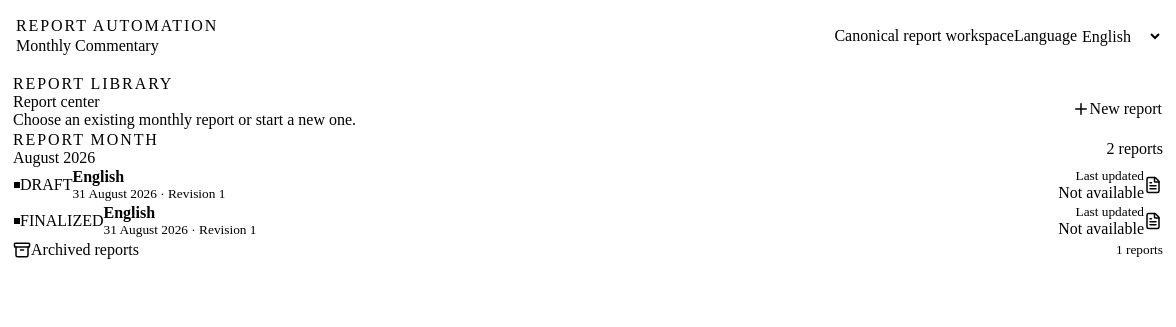
Test: report center navigation › opens the report center without loading or refreshing an individual report
Expected: the heading "Report center" is shown, [13,93,100,110]
Expected: the heading "August 2026" is shown, [13,149,95,166]
Select "简体中文" in the dropdown labelled "Language" at (1120,36), box [1077,16,1164,56]
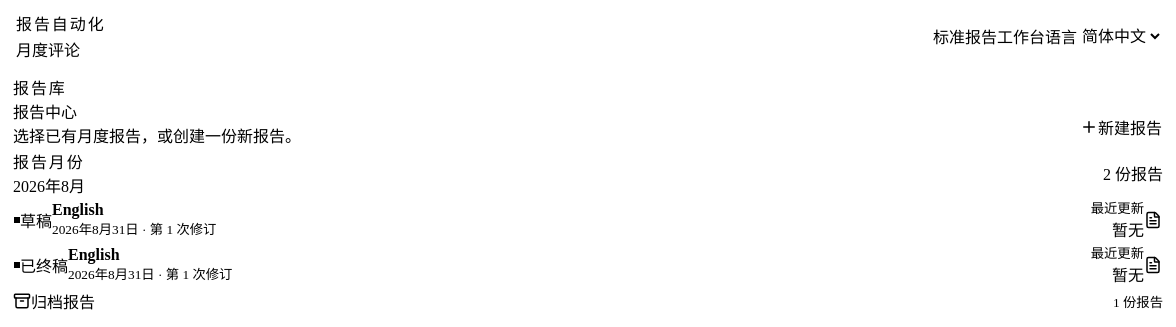
Now the heading "报告中心" is shown, box [13,104,77,121]
Select "繁體中文" in the dropdown labelled "语言" at (1120,36), box [1077,16,1164,56]
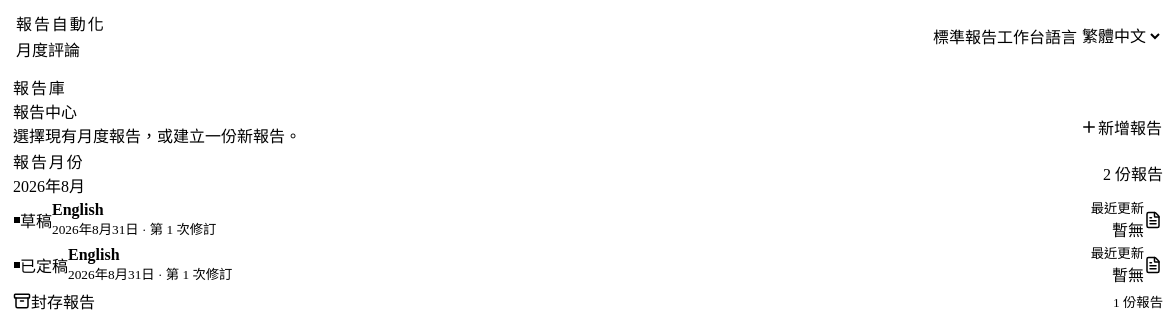
Now the heading "報告中心" is shown, box [13,104,77,121]
